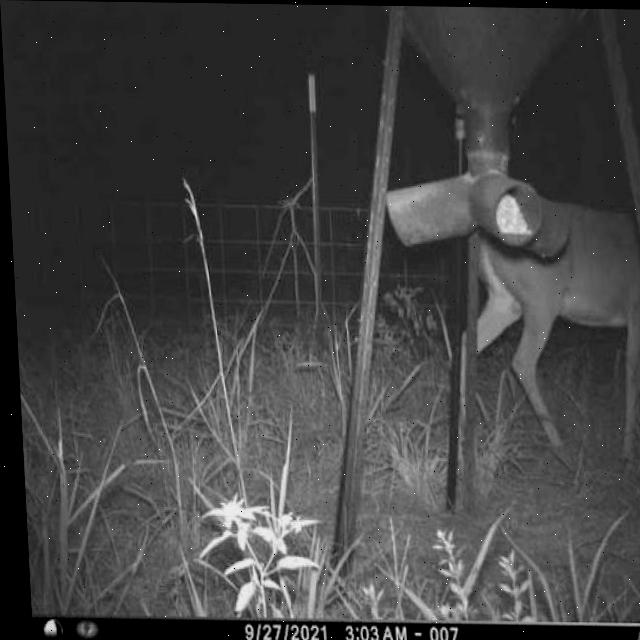Deer: (454, 161, 640, 471)
